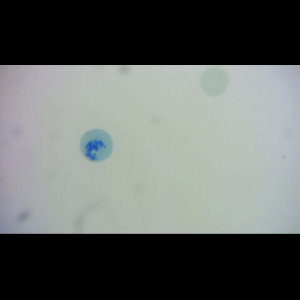aggregate reticulocyte: (79, 127, 115, 163)
erythrocyte: (198, 65, 231, 98)
